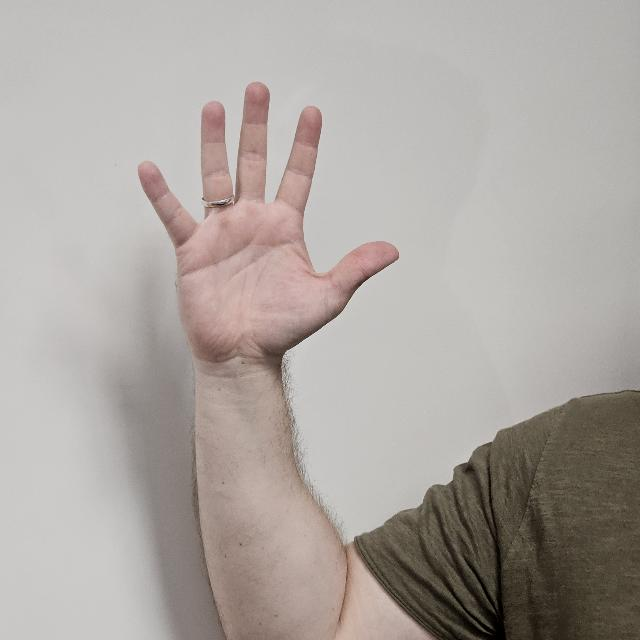X: (130, 81, 400, 426)
